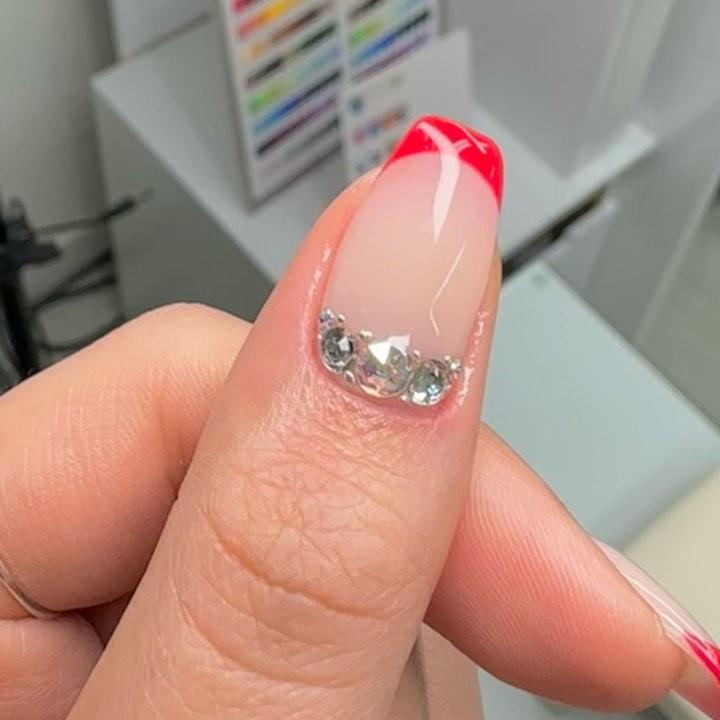nail: (313, 113, 505, 415), (587, 533, 719, 719)
